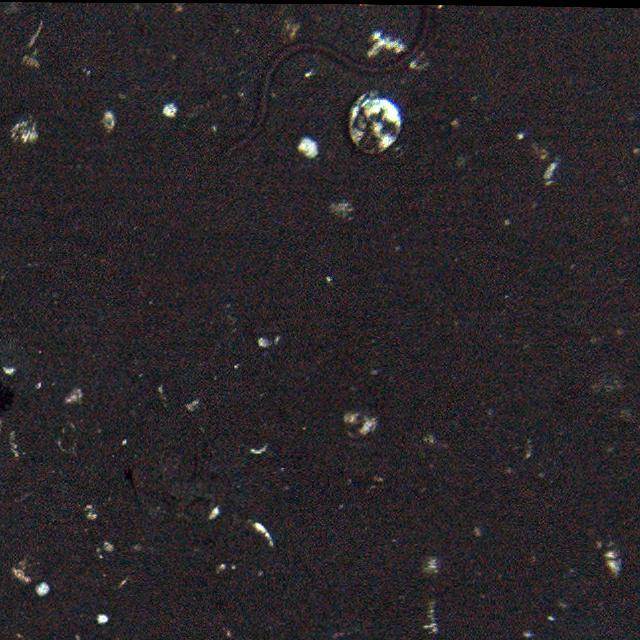eel: (216, 8, 444, 161)
